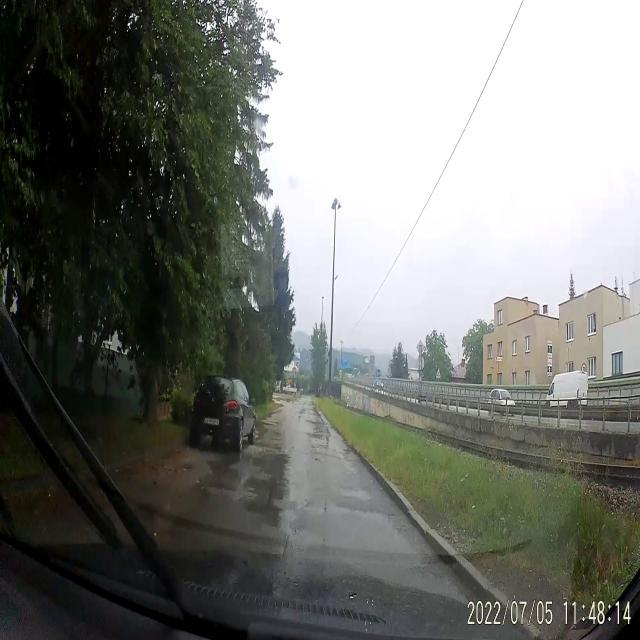Pothole: (330, 502, 385, 526)
